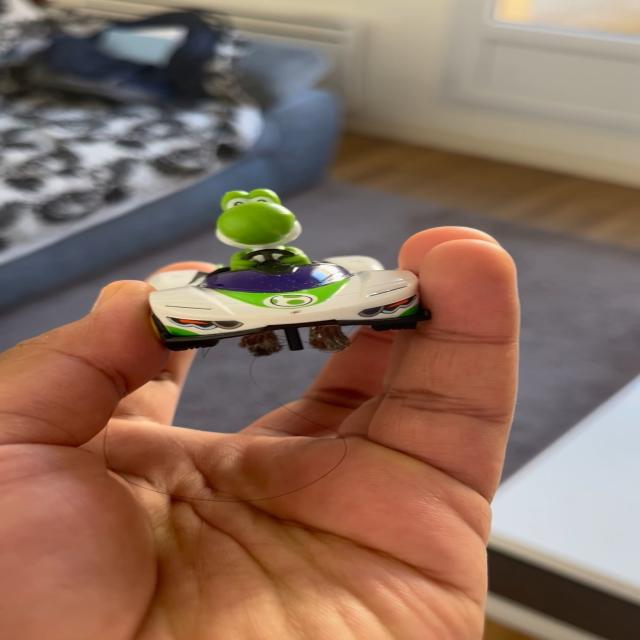yoshi: (137, 174, 434, 340)
